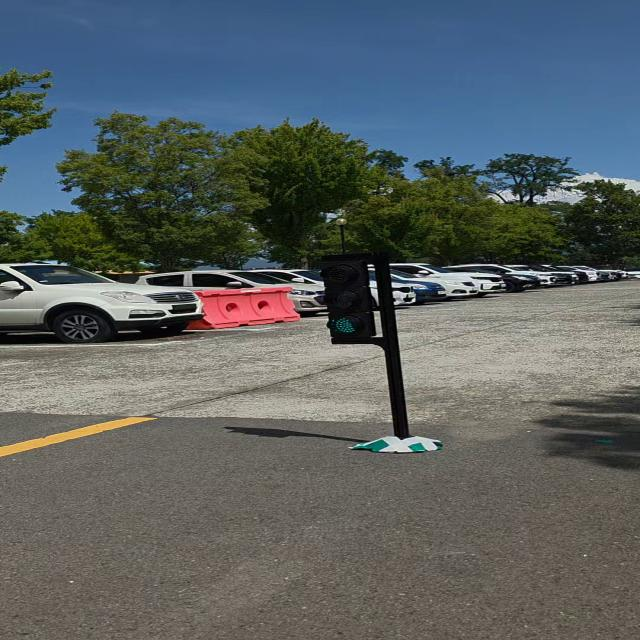green: (324, 255, 378, 342)
